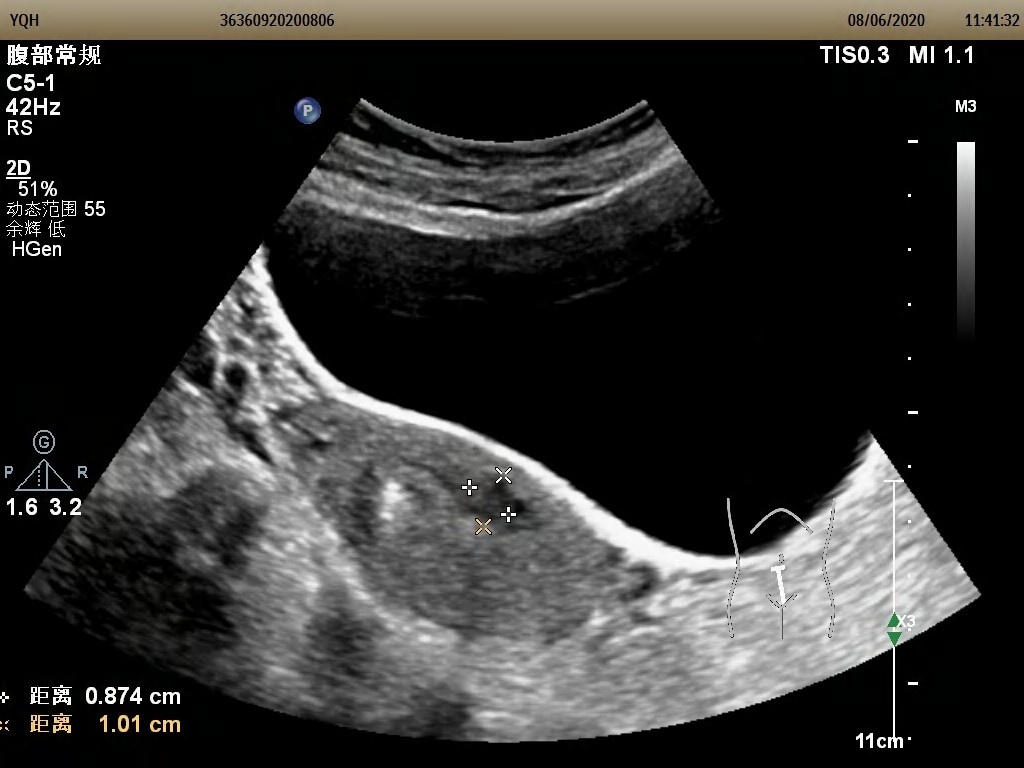肌瘤: (468, 475, 509, 528)
